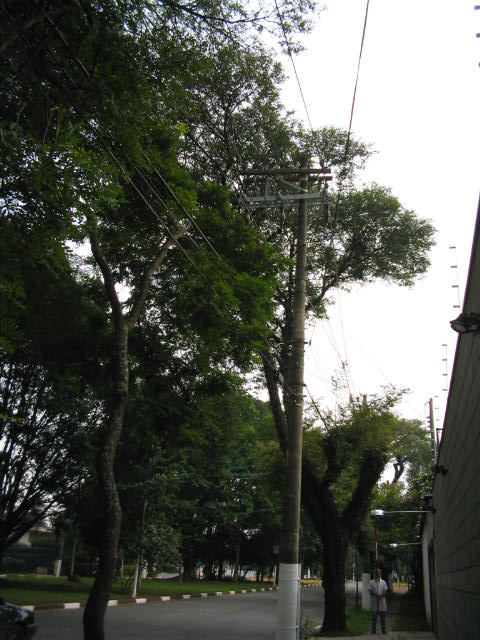crown: (14, 126, 294, 379), (239, 185, 440, 473)
stem: (65, 328, 145, 640), (309, 531, 364, 634)
stick: (368, 524, 383, 633)
tree: (12, 125, 295, 640), (236, 183, 441, 636)
